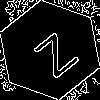Z: (25, 25, 80, 79)
